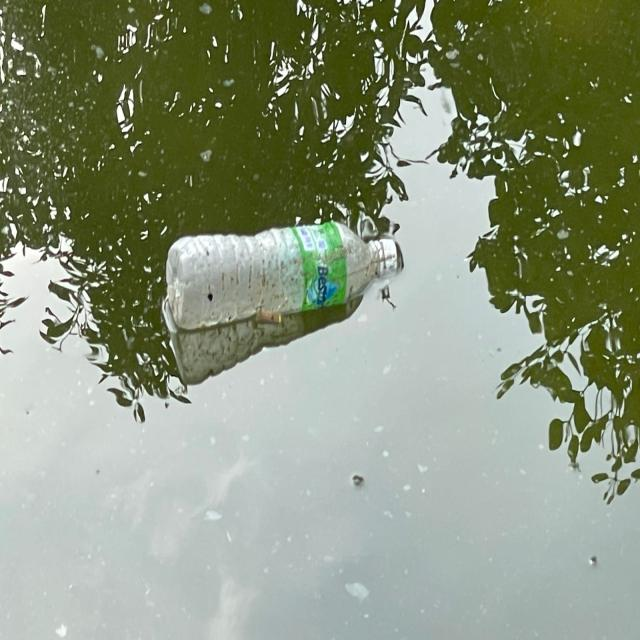Botol Plastik: (161, 216, 403, 342)
